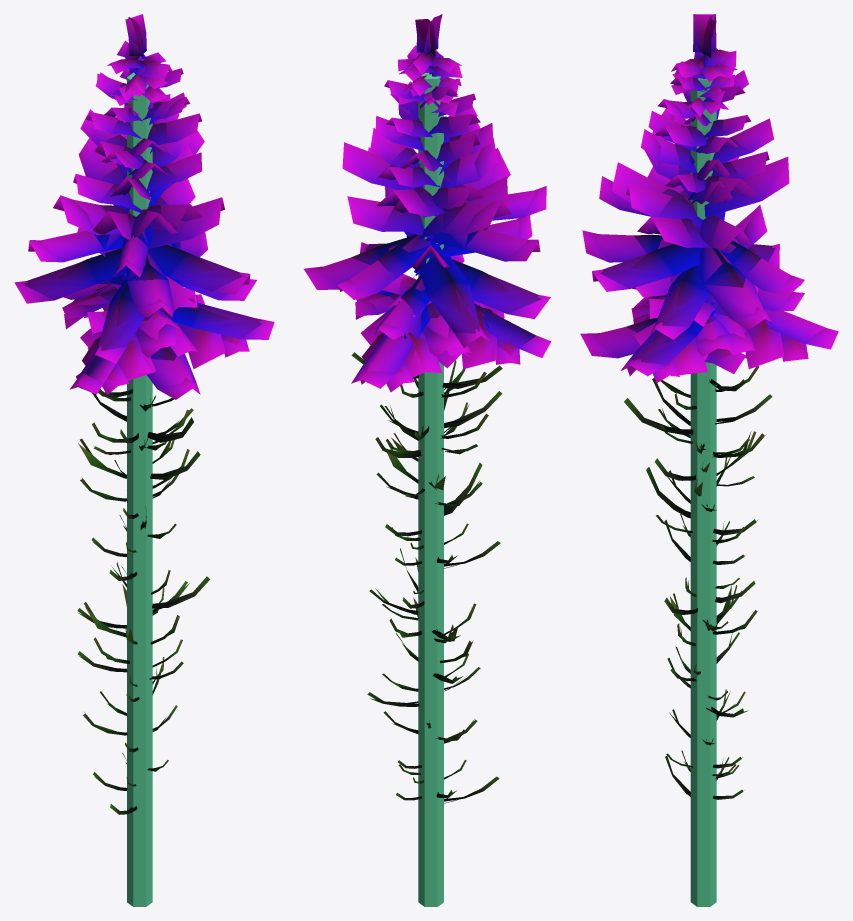
The model's file is pine_radiata_forest.dae.
3 renders of one model, left to right at view 1: azimuth 30°, elevation 25°; view 2: azimuth 150°, elevation 25°; view 3: azimuth 270°, elevation 25°, orthographic.
Visible parts, largest first — view 1: pine_radiata_forest_a520, pine_radiata_forest_a170, Colmesh_pine_radiata_forest-1; view 2: pine_radiata_forest_a520, pine_radiata_forest_a170, Colmesh_pine_radiata_forest-1; view 3: pine_radiata_forest_a520, pine_radiata_forest_a170, Colmesh_pine_radiata_forest-1.
Boxes of the visible parts, box(x1,y1,x2,y2) form: pine_radiata_forest_a520: box(14, 14, 274, 814); pine_radiata_forest_a170: box(23, 14, 262, 814); Colmesh_pine_radiata_forest-1: box(127, 72, 152, 906); pine_radiata_forest_a520: box(304, 14, 551, 801); pine_radiata_forest_a170: box(320, 14, 541, 803); Colmesh_pine_radiata_forest-1: box(418, 73, 443, 906); pine_radiata_forest_a520: box(580, 14, 838, 798); pine_radiata_forest_a170: box(592, 14, 826, 799); Colmesh_pine_radiata_forest-1: box(690, 78, 716, 906).
Bounding box in the file's own units: 4.74 × 4.99 × 18.85.
